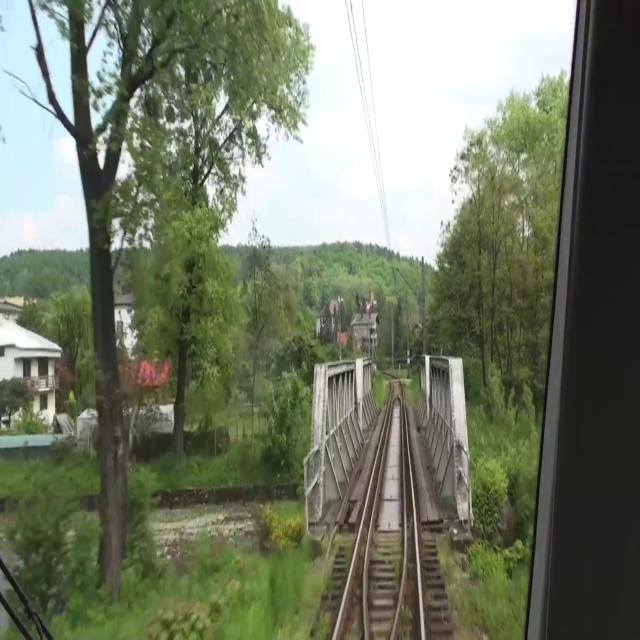rail-track: (368, 379, 402, 639), (336, 451, 380, 639), (396, 456, 420, 639)
